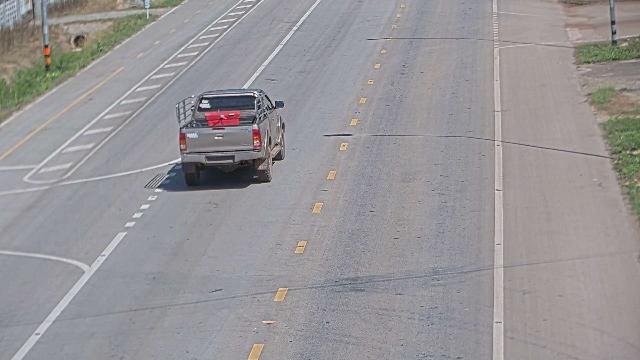pickup-truck: (175, 87, 286, 186)
